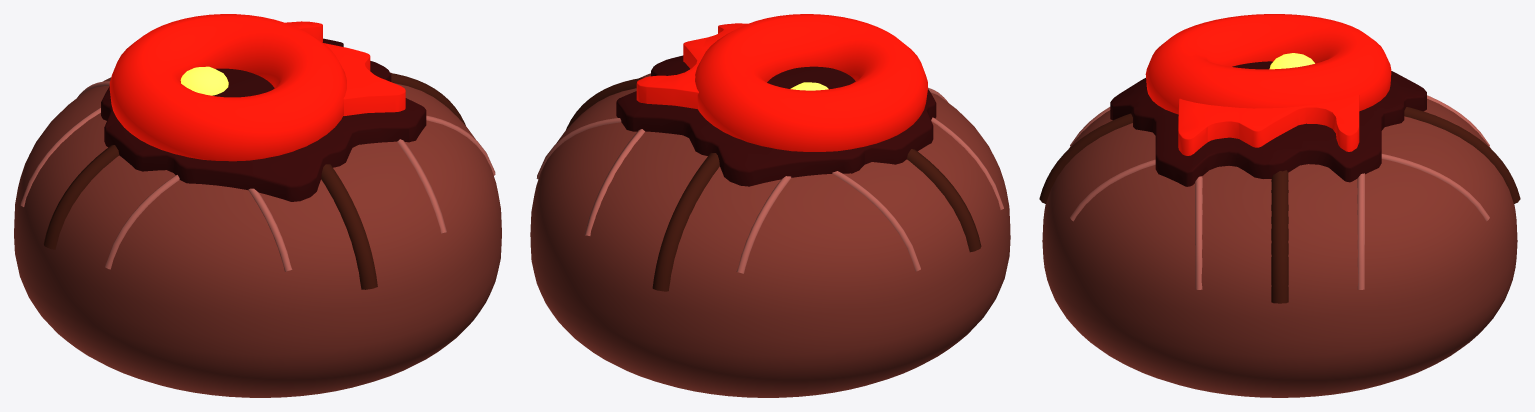
Rendered from pu_mega_pulse_rear.glb.
The picture shows the model from 3 angles, left to right: view 1: azimuth 30°, elevation 25°; view 2: azimuth 150°, elevation 25°; view 3: azimuth 270°, elevation 25°; orthographic projection. The views are drawn at different scales.
Parts seen in each view (by area): view 1: orb, ring, ring_base, orb_groove_4, orb_seam_4, heart; view 2: orb, ring, ring_base, orb_groove_4, orb_seam_4; view 3: orb, ring, ring_base, orb_groove_4, orb_seam_4, heart.
Boxes of the visible parts, bbox=[...] form: orb: bbox=[14, 72, 501, 397]; ring: bbox=[109, 14, 405, 161]; ring_base: bbox=[101, 38, 426, 201]; orb_groove_4: bbox=[43, 73, 465, 289]; orb_seam_4: bbox=[20, 81, 495, 271]; heart: bbox=[180, 66, 228, 95]; orb: bbox=[530, 73, 1010, 397]; ring: bbox=[636, 14, 927, 151]; ring_base: bbox=[616, 55, 936, 186]; orb_groove_4: bbox=[566, 77, 981, 291]; orb_seam_4: bbox=[536, 87, 1003, 273]; orb: bbox=[1042, 99, 1517, 397]; ring: bbox=[1145, 14, 1391, 155]; ring_base: bbox=[1110, 61, 1426, 186]; orb_groove_4: bbox=[1039, 107, 1520, 303]; orb_seam_4: bbox=[1070, 95, 1489, 289]; heart: bbox=[1269, 53, 1314, 69].
Bounding box in the file's own units: 20.88 × 14.3 × 21.27.
